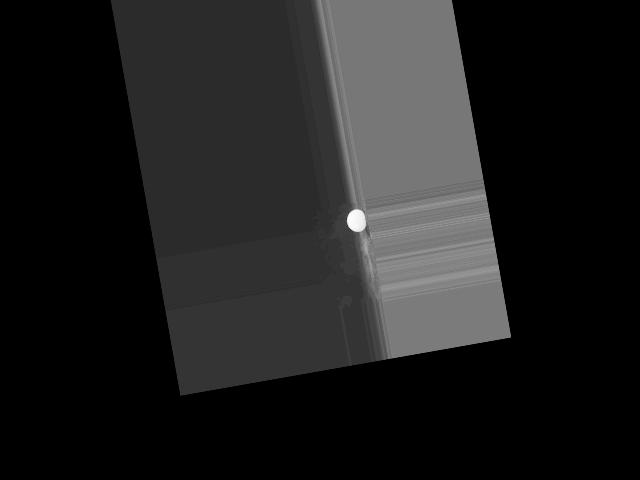egg: (345, 208, 367, 234)
